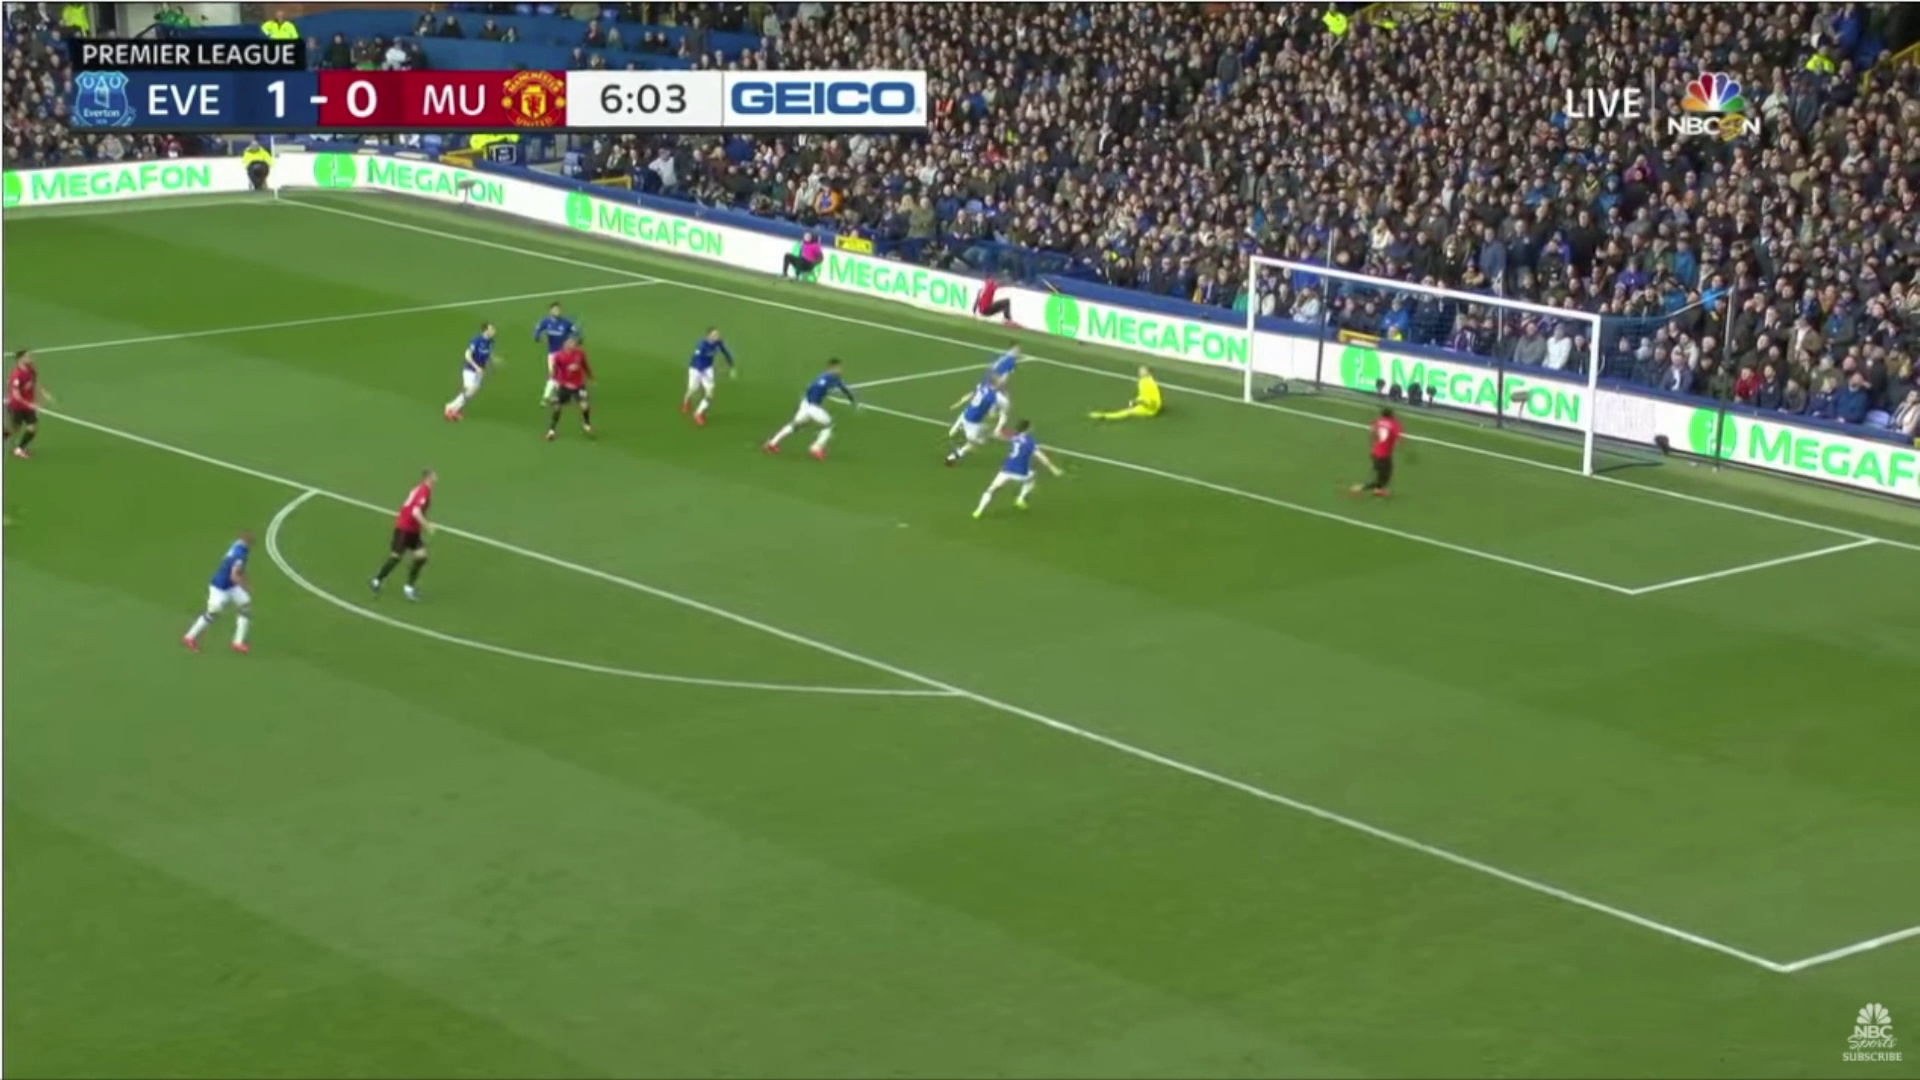player: (185, 513, 287, 673), (1333, 379, 1439, 527), (356, 460, 460, 610), (770, 346, 862, 467), (972, 415, 1066, 533), (668, 315, 747, 440), (439, 306, 508, 433), (1087, 354, 1189, 437), (545, 331, 608, 454), (1, 337, 56, 458), (533, 292, 587, 402), (941, 371, 1002, 458), (979, 340, 1027, 448)
